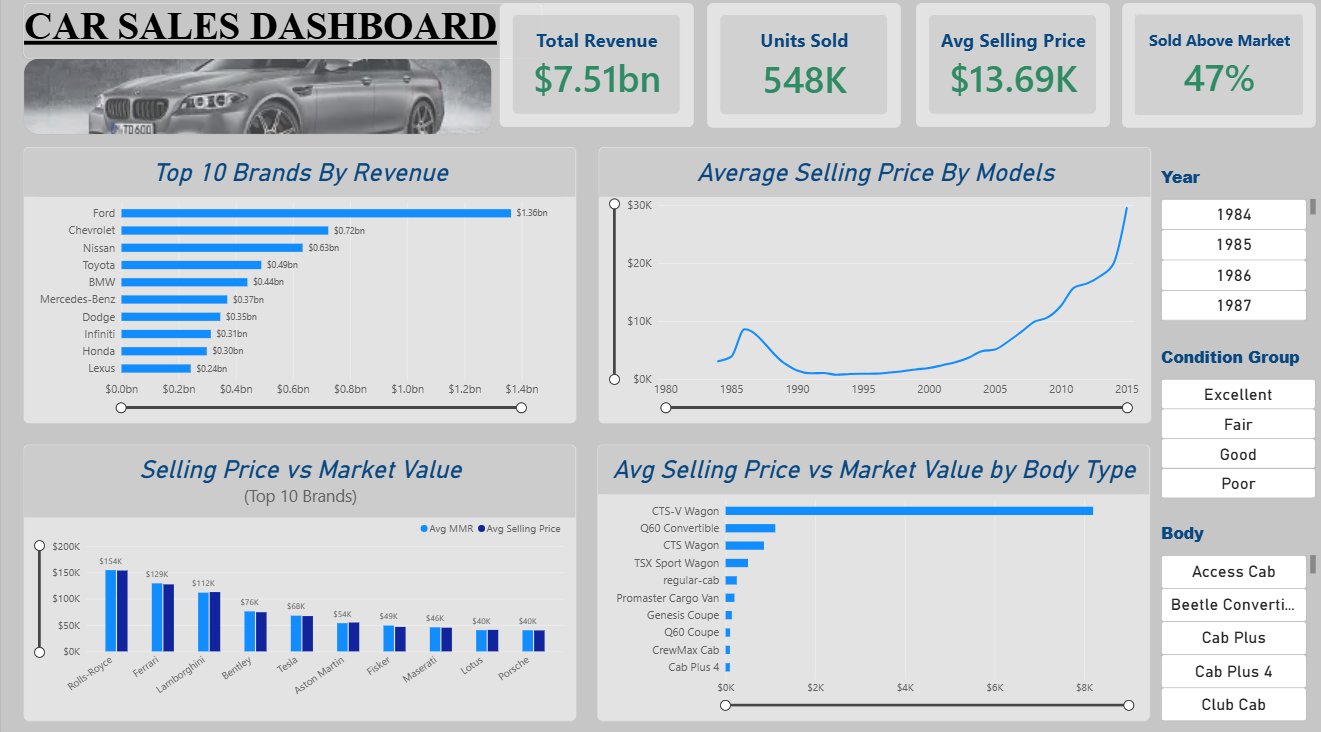

Layout of this report page (visuals, bound fields, positions):
{"tool":"powerbi","page":{"name":"Page 1","canvas":[1920,1080],"ordinal":0},"visuals":[{"type":"cardVisual","fields":{"Data":["car_prices.Units Sold"]},"box":[1022.5,16.3,280,180],"z":0},{"type":"textbox","box":[32,32,752,64],"z":1000},{"type":"lineChart","title":"Monthly Revenue Trend","fields":{"Category":["Date Table.Year Month"],"Y":["car_prices.Total Revenue"]},"box":[864,224,800,400],"z":2000},{"type":"clusteredBarChart","title":"Top 10 Brands By Revenue","fields":{"Category":["car_prices.make"],"Y":["car_prices.Total Revenue"]},"box":[32,224,800,400],"z":3000},{"type":"textbox","box":[1008,576,560,48],"z":4000},{"type":"advancedSlicerVisual","fields":{"Values":["car_prices.Condition Group"]},"box":[1680,512,224,224],"z":5000},{"type":"listSlicer","fields":{"Values":["Date Table.Year Month"]},"box":[1680,224,224,256],"z":6000},{"type":"advancedSlicerVisual","title":"Body","fields":{"Values":["car_prices.body"]},"box":[1679.4,767.3,224,288],"z":7000},{"type":"cardVisual","fields":{"Data":["car_prices.% Sold Above Market"]},"box":[1623.3,16.3,280,180],"z":8000},{"type":"clusteredColumnChart","title":"Selling Price vs Market Value","fields":{"Category":["car_prices.make"],"Y":["car_prices.Avg MMR","car_prices.Avg Selling Price"]},"box":[32,656,800,400],"z":9000},{"type":"clusteredBarChart","title":"Avg Selling Price vs Market Value by Body Type","fields":{"Category":["car_prices.body"],"Y":["car_prices.Avg Price Diff"]},"box":[864,656,800,400],"z":10000},{"type":"image","box":[32,96,678,110],"z":11000},{"type":"cardVisual","fields":{"Data":["car_prices.Total Revenue"]},"box":[722.1,16.3,280.5,179.2],"z":12000},{"type":"cardVisual","fields":{"Data":["car_prices.Avg Selling Price"]},"box":[1324.7,16.3,280.5,179.2],"z":13000}]}

Visuals, with their boxes in screenshot pixels (x1, y1, x2, y2), scaled from the page's 1920x1080 canvas onto the 1321x732 screenshot:
cardVisual - car_prices.Units Sold: <box>704,11,896,133</box>
textbox: <box>22,22,539,65</box>
"Monthly Revenue Trend" lineChart: <box>594,152,1145,423</box>
"Top 10 Brands By Revenue" clusteredBarChart: <box>22,152,572,423</box>
textbox: <box>694,390,1079,423</box>
advancedSlicerVisual - car_prices.Condition Group: <box>1156,347,1310,499</box>
listSlicer - Date Table.Year Month: <box>1156,152,1310,325</box>
"Body" advancedSlicerVisual: <box>1155,520,1310,715</box>
cardVisual - car_prices.% Sold Above Market: <box>1117,11,1310,133</box>
"Selling Price vs Market Value" clusteredColumnChart: <box>22,445,572,716</box>
"Avg Selling Price vs Market Value by Body Type" clusteredBarChart: <box>594,445,1145,716</box>
image: <box>22,65,488,140</box>
cardVisual - car_prices.Total Revenue: <box>497,11,690,133</box>
cardVisual - car_prices.Avg Selling Price: <box>911,11,1104,133</box>
